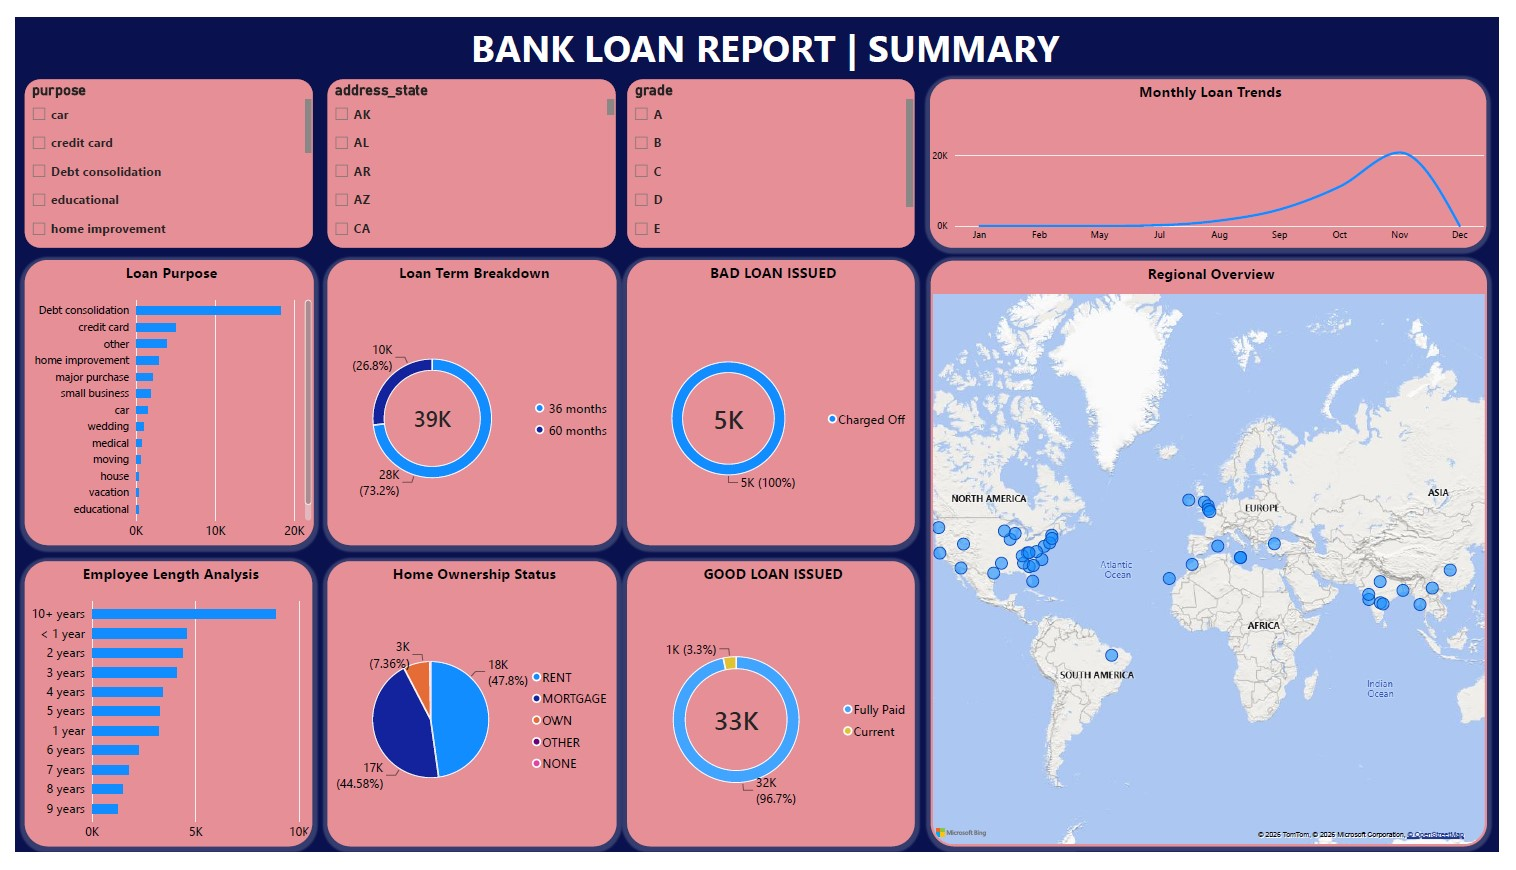

This screenshot's page, from the dashboard's own definition file:
{"tool":"powerbi","page":{"name":"Page 1","canvas":[1920,1080],"ordinal":0},"visuals":[{"type":"textbox","box":[495,6.4,951.4,68.6],"z":0},{"type":"donutChart","title":"GOOD LOAN ISSUED","fields":{"Category":["financial_loan.loan_status"],"Y":["financial_loan.Total Loan Applications"]},"box":[792.2,704.4,372.2,368.9],"z":1000},{"type":"donutChart","title":"BAD LOAN ISSUED","fields":{"Category":["financial_loan.loan_status"],"Y":["financial_loan.Total Loan Applications"]},"box":[792.2,314.4,372.2,368.9],"z":2000},{"type":"slicer","fields":{"Values":["financial_loan.purpose"]},"box":[12.3,80,372.3,217.7],"z":3000},{"type":"slicer","fields":{"Values":["financial_loan.grade"]},"box":[792.2,80,372.2,217.8],"z":4000},{"type":"slicer","fields":{"Values":["financial_loan.address_state"]},"box":[404.4,80,372.3,217.7],"z":5000},{"type":"lineChart","title":"Monthly Loan Trends","fields":{"Y":["financial_loan.Total Loan Applications"],"Category":["DateTable.Month Name"]},"box":[1184.4,80,720,217.8],"z":6000},{"type":"map","title":"Regional Overview","fields":{"Category":["financial_loan.address_state"]},"box":[1185,315,720,758.3],"z":7000},{"type":"donutChart","title":"Loan Term Breakdown","fields":{"Category":["financial_loan.term"],"Y":["financial_loan.Total Loan Applications"]},"box":[404.4,314.4,373.3,368.9],"z":8000},{"type":"clusteredBarChart","title":"Employee Length Analysis","fields":{"Category":["financial_loan.emp_length"],"Y":["financial_loan.Total Loan Applications"]},"box":[12.2,704.4,372.2,368.9],"z":9000},{"type":"pieChart","title":"Home Ownership Status","fields":{"Category":["financial_loan.home_ownership"],"Y":["financial_loan.Total Loan Applications"]},"box":[404.4,704.4,373.3,368.9],"z":10000},{"type":"clusteredBarChart","title":"Loan Purpose","fields":{"Category":["financial_loan.purpose"],"Y":["financial_loan.Total Loan Applications"]},"box":[12.2,314.4,373.3,368.9],"z":11000}]}

Visuals, with their boxes in screenshot pixels (x1, y1, x2, y2), scaled from the page's 1920x1080 canvas onto the 1516x870 screenshot:
textbox: 391:5:1142:60
"GOOD LOAN ISSUED" donutChart: 626:567:919:865
"BAD LOAN ISSUED" donutChart: 626:253:919:550
slicer - financial_loan.purpose: 10:64:304:240
slicer - financial_loan.grade: 626:64:919:240
slicer - financial_loan.address_state: 319:64:613:240
"Monthly Loan Trends" lineChart: 935:64:1504:240
"Regional Overview" map: 936:254:1504:865
"Loan Term Breakdown" donutChart: 319:253:614:550
"Employee Length Analysis" clusteredBarChart: 10:567:304:865
"Home Ownership Status" pieChart: 319:567:614:865
"Loan Purpose" clusteredBarChart: 10:253:304:550
